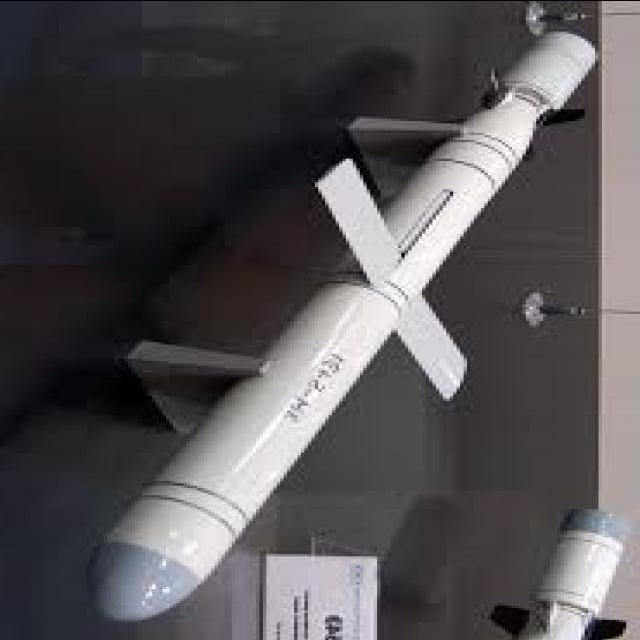missile: (50, 0, 622, 640)
